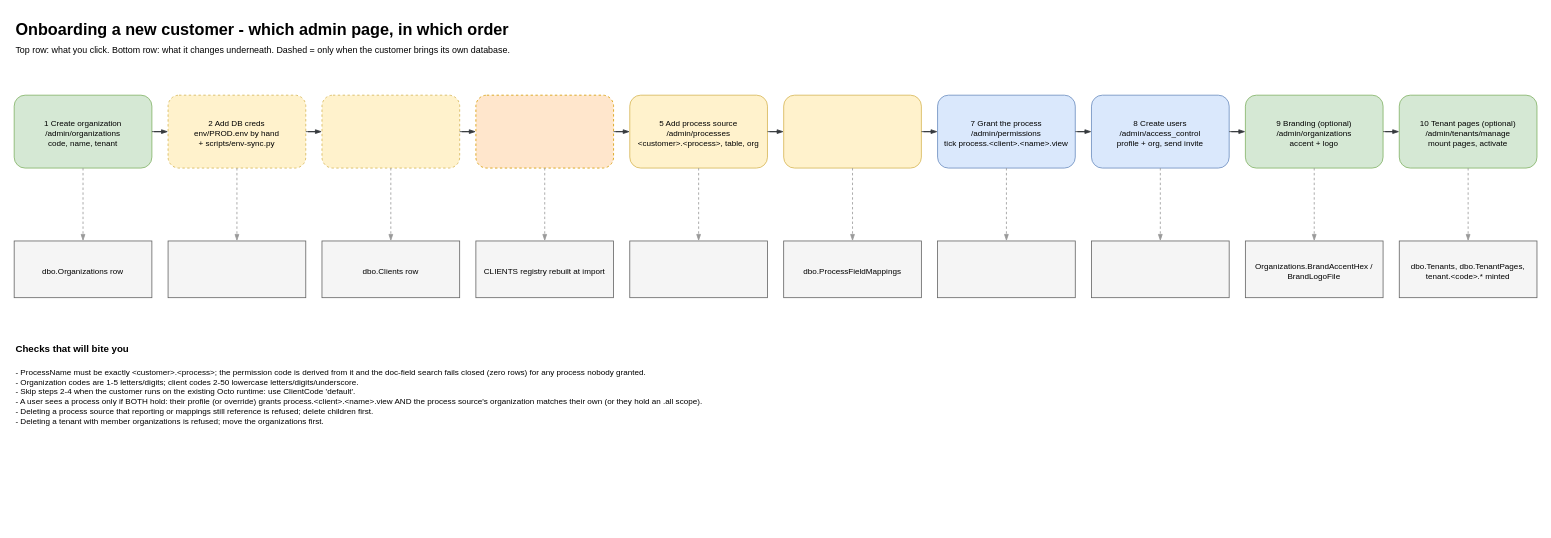
This 1551x538 diagram has some shape labels left out. Each missing label, with the centre of its shape:
"3 Register client /admin/clients ClientCode, dialect, engine keys" goes at point (390, 131).
"4 Recycle app pool IIS on SYAPP01 (or merge anything to main)" goes at point (544, 131).
"6 Add field mappings /admin/processes one row per doc-field" goes at point (852, 131).
"dbo.AccessProfilePermission" goes at point (1006, 269).
"dbo.ProcessSources + process.<client>.<name>.view minted" goes at point (698, 269).
"dbo.Users, invite mail via Graph" goes at point (1160, 269).
"gitignored env file on SYAPP01" goes at point (236, 269).
